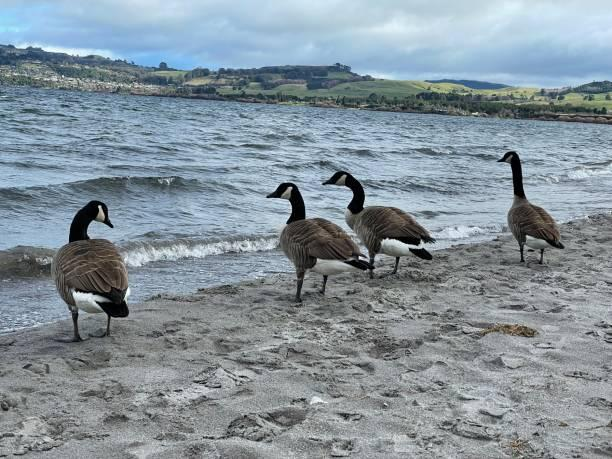Canadian-Goose: (53, 198, 133, 339), (266, 181, 363, 296), (326, 170, 433, 267), (497, 150, 564, 263)
